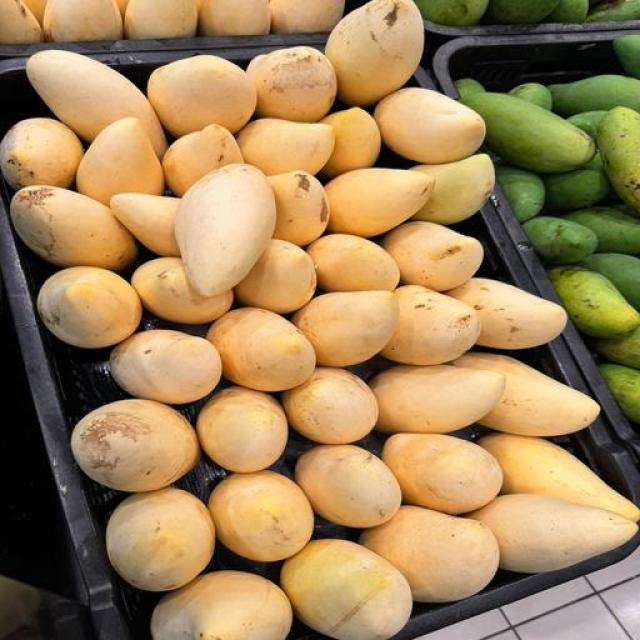organic: (0, 3, 640, 640), (463, 93, 594, 172), (549, 267, 639, 338), (598, 108, 639, 214), (537, 154, 609, 212), (549, 74, 639, 117), (544, 155, 609, 212), (523, 217, 597, 264), (564, 208, 639, 254), (583, 253, 639, 309), (583, 254, 639, 308), (495, 165, 544, 222), (599, 364, 639, 422), (415, 0, 488, 26), (592, 329, 639, 368), (488, 0, 559, 23), (587, 0, 639, 22), (509, 83, 552, 109), (613, 35, 639, 78), (568, 110, 607, 138), (545, 0, 588, 22), (568, 115, 596, 138), (455, 78, 486, 98), (577, 110, 607, 128), (608, 202, 634, 217), (585, 152, 603, 169), (585, 152, 603, 168), (589, 0, 607, 11), (589, 0, 603, 8)
